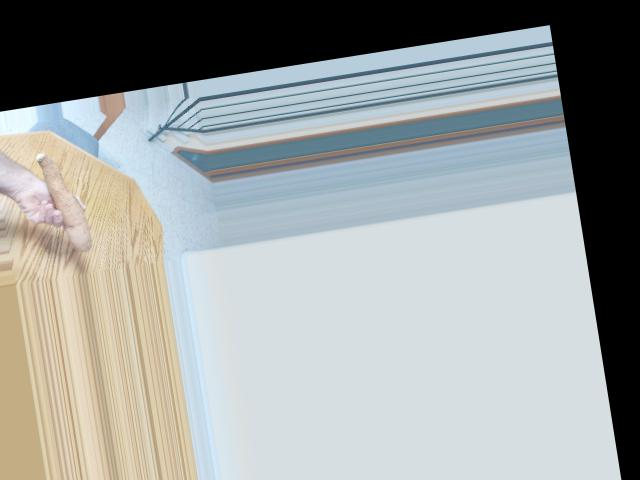sweet_potato: (25, 147, 97, 254)
